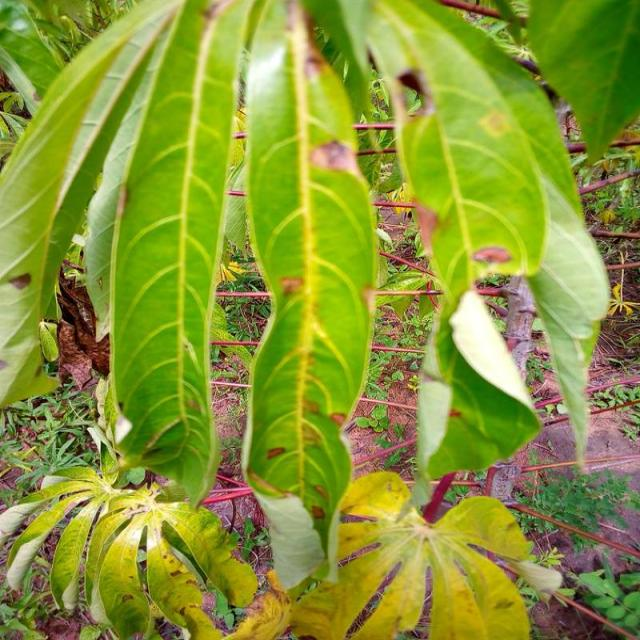cassava leaf: (2, 0, 626, 638), (242, 3, 379, 590)
